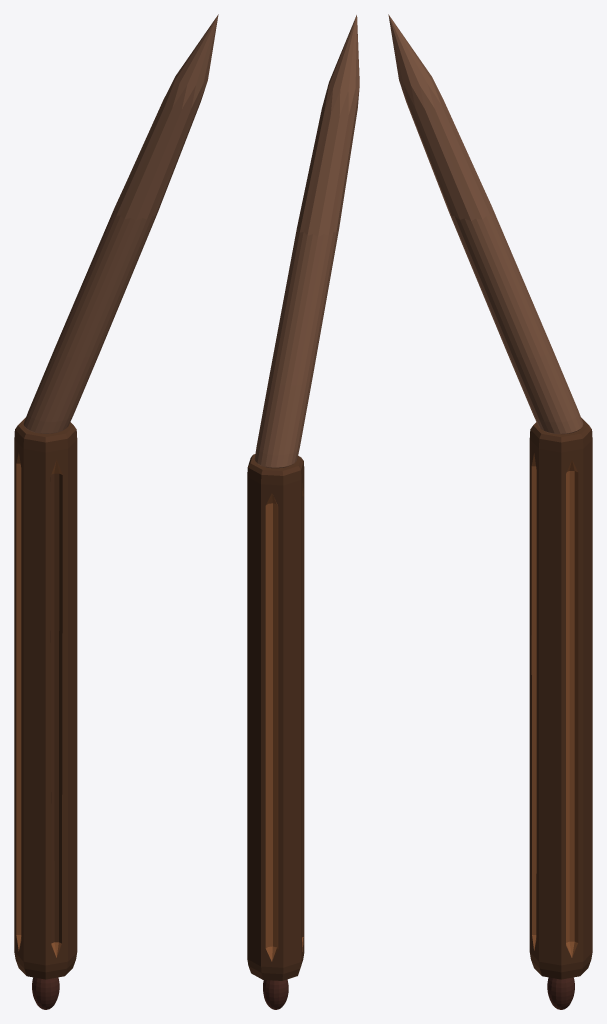
File: Wand 596.glb
3 views of the same model, side by side, from view 1: azimuth 90°, elevation 25°; view 2: azimuth 150°, elevation 25°; view 3: azimuth 270°, elevation 25° (orthographic). The views are drawn at different scales.
Parts seen in each view (by area): view 1: GeneratedWand; view 2: GeneratedWand; view 3: GeneratedWand.
Boxes of the visible parts, bbox=[...] form: GeneratedWand: bbox=[14, 14, 218, 1009]; GeneratedWand: bbox=[247, 15, 359, 1009]; GeneratedWand: bbox=[388, 14, 592, 1009].
Size of the model in its own units: 0.0289 by 0.5052 by 0.0939.
